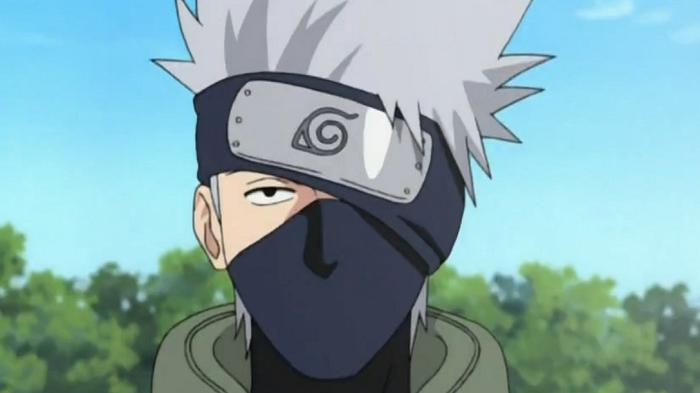kakashi: (188, 68, 470, 385)
